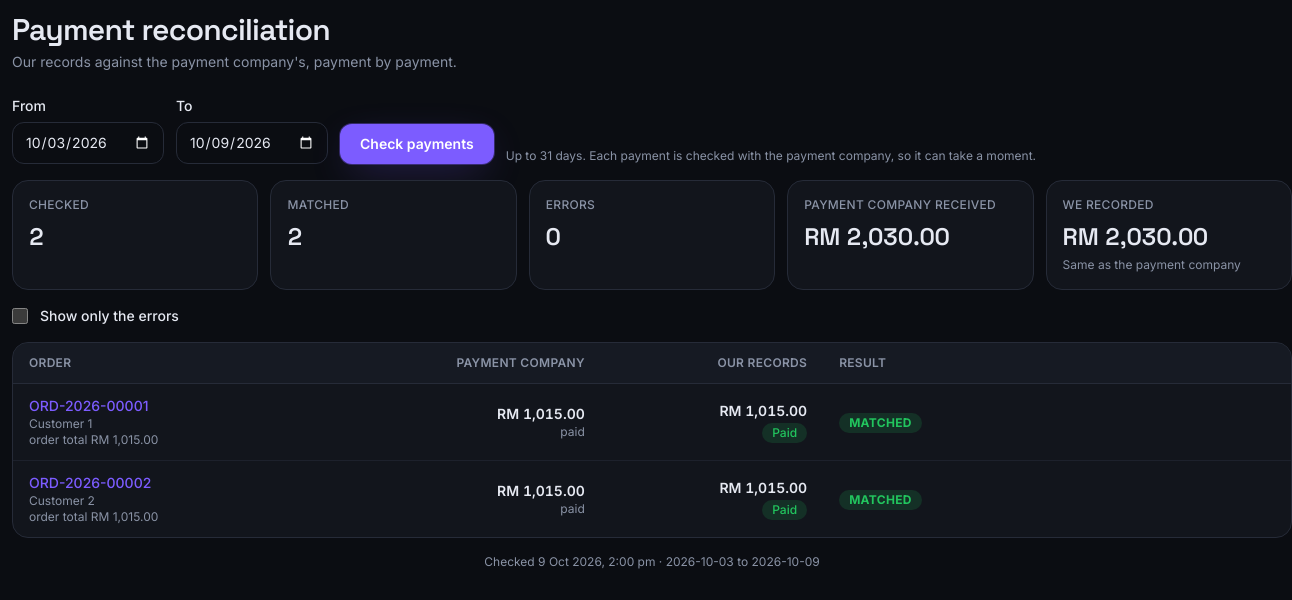
Scenario: payment reconciliation › says everything is fine when every payment agrees and only errors are wanted
Click the checkbox labelled "Show only the errors" at (20, 316), box 12,308 -> 28,324
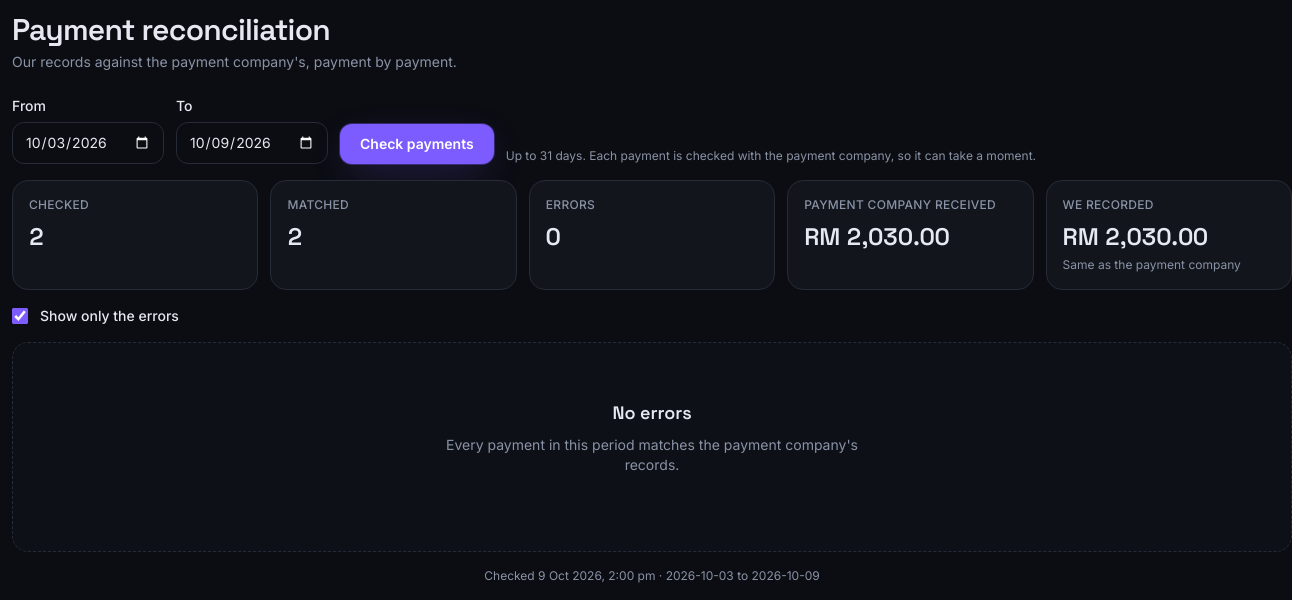
Expected: the element with test id "stat-card" shows "Same as the payment company", 1063,257 -> 1241,272
Result: the text "No errors" is shown at 612,401 -> 692,424
